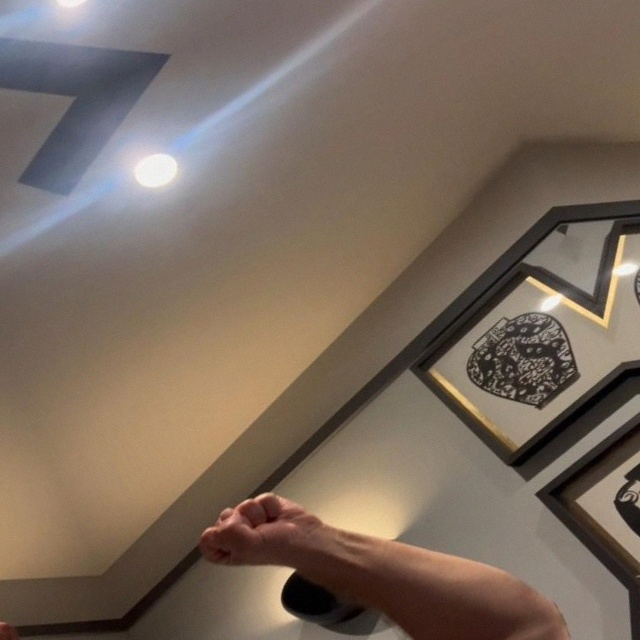Rock: (0, 604, 44, 640)
